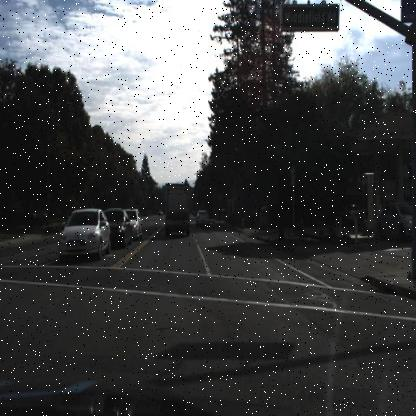car: (57, 206, 110, 260), (375, 200, 415, 242), (110, 205, 132, 249), (336, 200, 358, 227), (193, 208, 212, 231), (130, 208, 144, 238)
truck: (161, 181, 192, 240)
